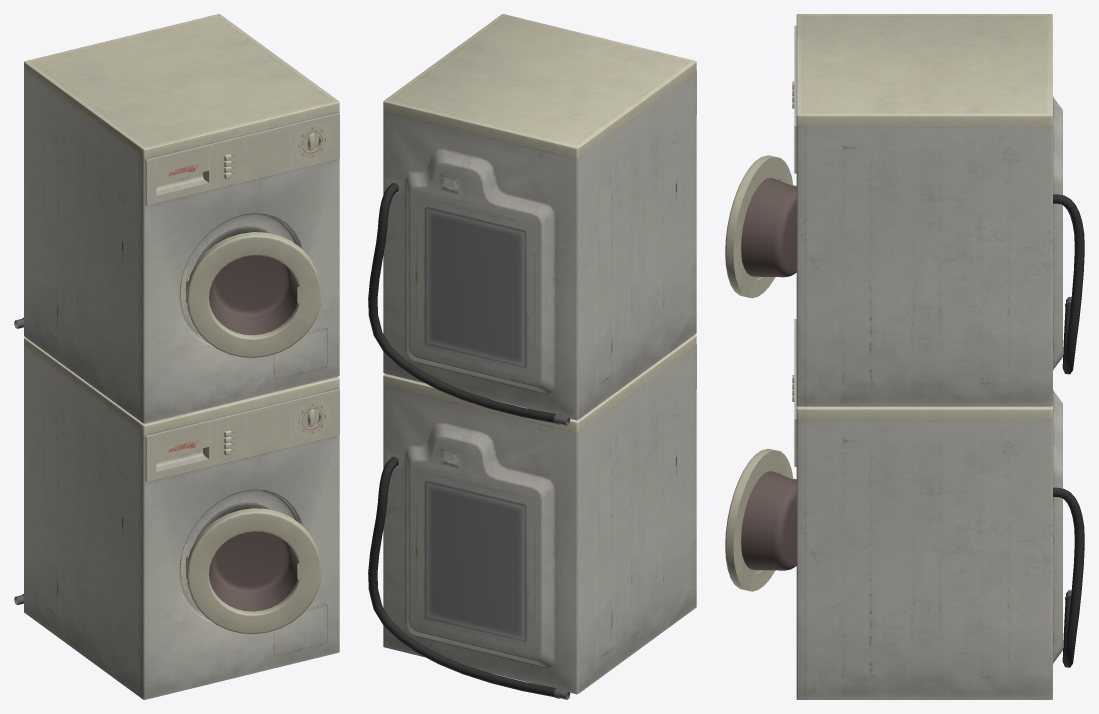
3 views of the same model, side by side, from view 1: azimuth 30°, elevation 25°; view 2: azimuth 150°, elevation 25°; view 3: azimuth 270°, elevation 25° (orthographic). The views are drawn at different scales.
Parts seen in each view (by area): view 1: body_low.001, body_low, door_low, door_low.001; view 2: body_low.001, body_low, cable_low, cable_low.001; view 3: body_low.001, body_low, door_low, door_low.001, cable_low, cable_low.001.
Boxes of the visible parts, left/top/right/bottom form: body_low.001: left=24, top=14, right=339, bottom=423; body_low: left=24, top=337, right=339, bottom=699; door_low: left=186, top=508, right=321, bottom=634; door_low.001: left=186, top=232, right=321, bottom=357; body_low.001: left=383, top=14, right=696, bottom=420; body_low: left=383, top=334, right=696, bottom=694; cable_low: left=368, top=457, right=570, bottom=699; cable_low.001: left=368, top=183, right=570, bottom=425; body_low.001: left=794, top=14, right=1062, bottom=406; body_low: left=794, top=319, right=1062, bottom=699; door_low: left=725, top=448, right=796, bottom=591; door_low.001: left=725, top=155, right=796, bottom=298; cable_low: left=1053, top=487, right=1084, bottom=667; cable_low.001: left=1053, top=194, right=1084, bottom=374.
Bounding box in the file's own units: 1.37 × 3.62 × 2.
Materials: 2 (2 with a texture image).
